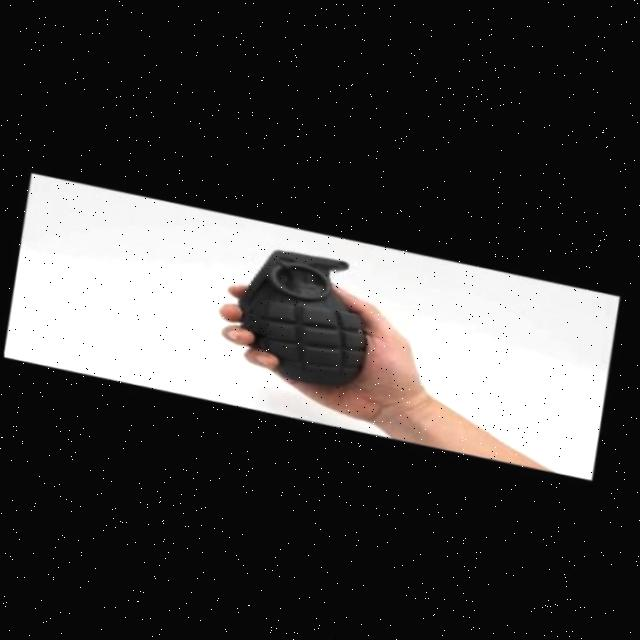grenade: (222, 224, 395, 407)
